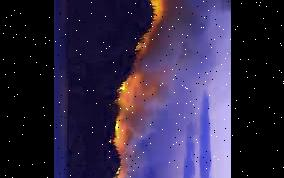fire: (98, 73, 136, 178), (128, 0, 172, 68)
